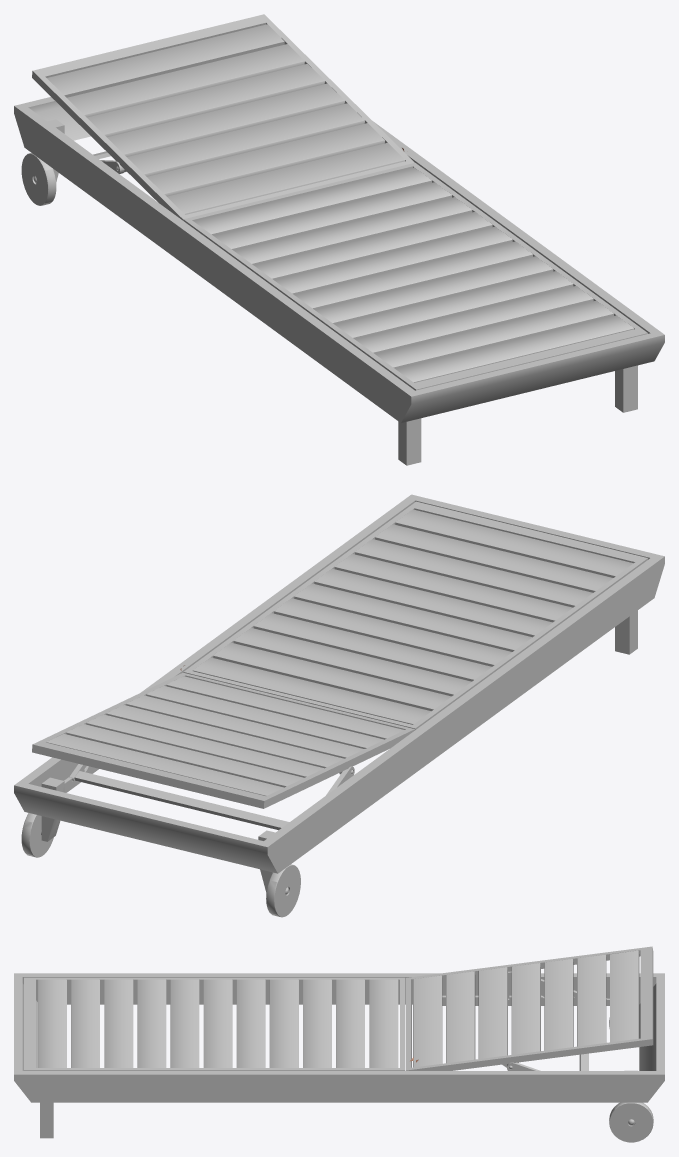
The model's file is chair.FBX.
3 views of the same model, one above another, from view 1: azimuth 30°, elevation 25°; view 2: azimuth 150°, elevation 25°; view 3: azimuth 270°, elevation 25° (orthographic). The views are drawn at different scales.
Visible parts, largest first — view 1: SMan0001-S; view 2: SMan0001-S; view 3: SMan0001-S.
Boxes of the visible parts, x1,y1,x2,y2 form: SMan0001-S: [14, 14, 664, 465]; SMan0001-S: [14, 494, 664, 917]; SMan0001-S: [14, 946, 664, 1142].
Size of the model in its own units: 0.7001 by 0.3202 by 1.9.
